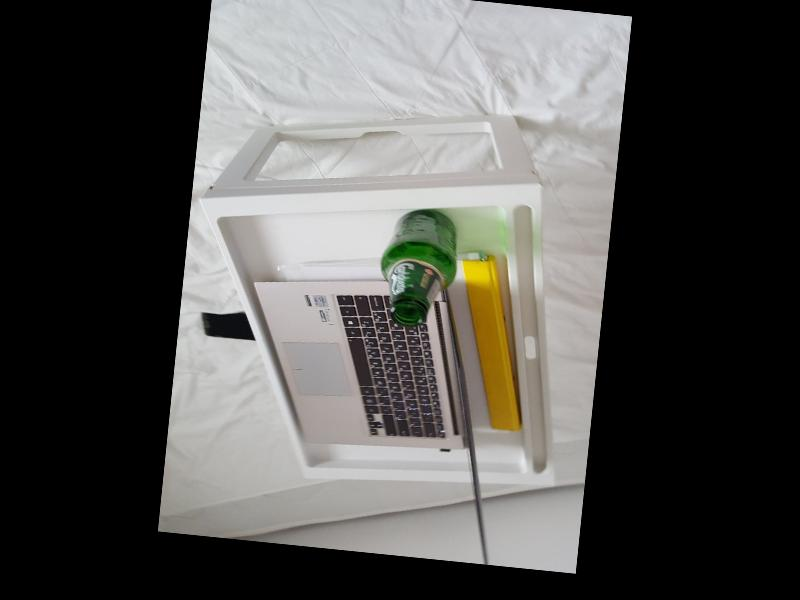Beer: (376, 205, 461, 330)
